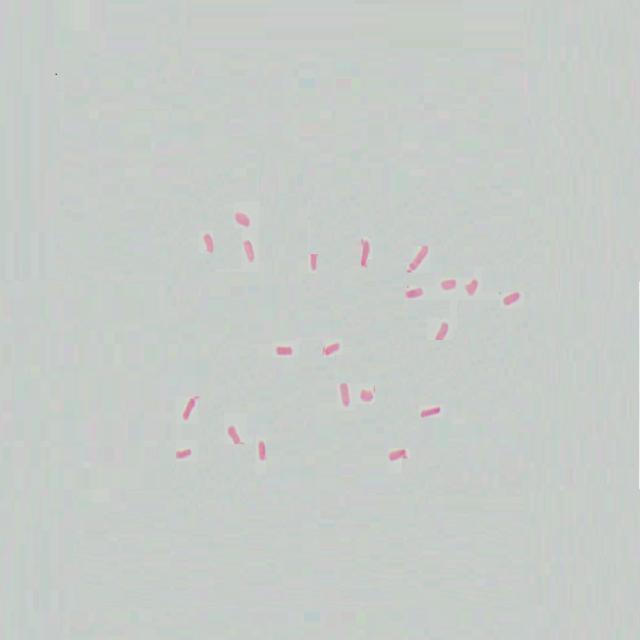E-coli: (334, 378, 352, 411), (409, 244, 429, 272), (357, 238, 374, 268), (433, 318, 450, 346), (180, 396, 198, 422), (201, 228, 217, 257), (256, 435, 271, 465), (226, 421, 242, 449), (172, 443, 193, 463), (439, 273, 457, 295), (419, 403, 442, 420), (274, 344, 297, 361), (404, 284, 424, 302), (385, 446, 408, 461), (310, 246, 321, 276), (321, 341, 340, 358), (233, 213, 252, 230), (244, 238, 256, 264), (466, 276, 479, 299), (503, 291, 520, 306), (361, 388, 372, 406)
